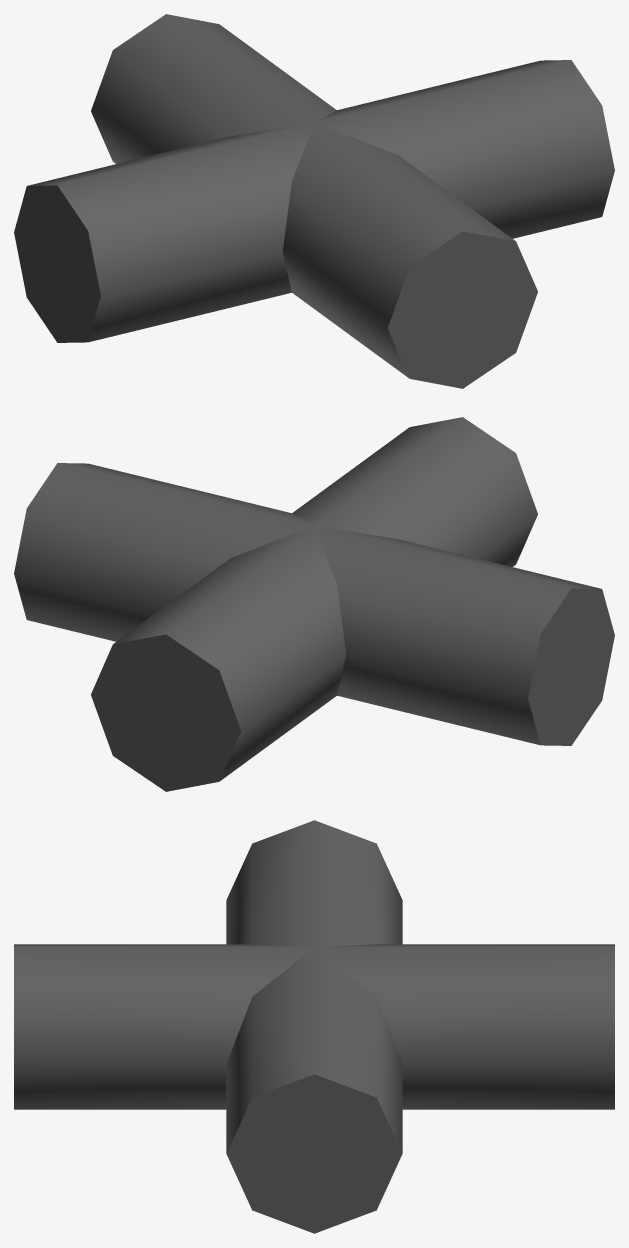
The model's file is pipe_014.fbx.
3 views of the same model, one above another, from view 1: azimuth 30°, elevation 25°; view 2: azimuth 150°, elevation 25°; view 3: azimuth 270°, elevation 25° (orthographic).
Visible parts, largest first — view 1: pipe_014; view 2: pipe_014; view 3: pipe_014.
Boxes of the visible parts, x1,y1,x2,y2 form: pipe_014: (14, 14, 614, 388); pipe_014: (14, 417, 614, 791); pipe_014: (14, 820, 614, 1233).
Size of the model in its own units: 275 by 275 by 80.58.
